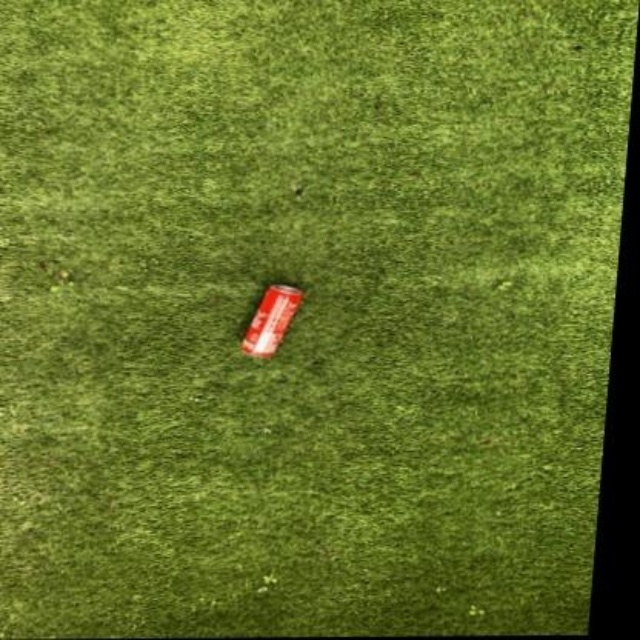trash: (242, 285, 302, 355)
